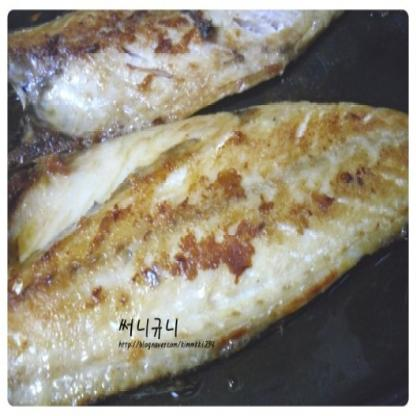Peixe: (7, 106, 409, 412), (4, 8, 336, 182)
